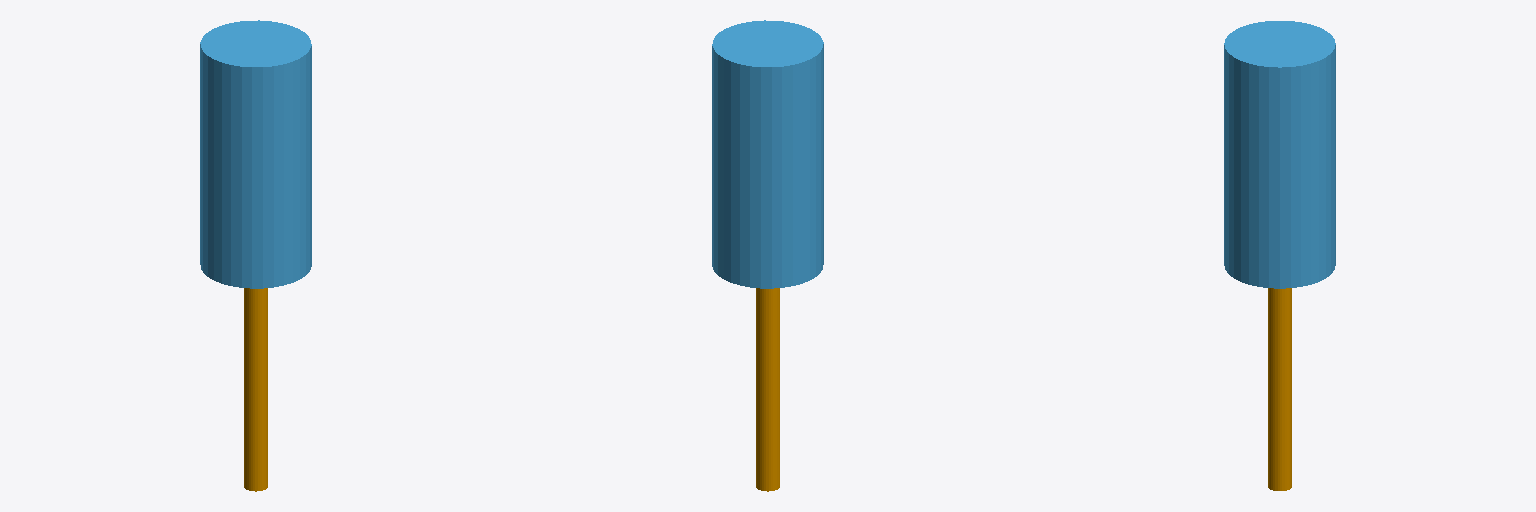
robot.urdf — screwdriver_on_the_table:
<?xml version="1.0" ?>
<!-- this is the one without any virtual joints and links -->
<robot name="screwdriver_on_the_table">
<link name="screwdriver_stick">
    <inertial>
      <mass value="0.05"/>
      <!-- <friction value="1.0"/> -->
      <inertia ixx="0.000041979" ixy="0.0" ixz="0.0" iyy="0.000041979" iyz="0.0" izz="0.000000625"/>
    </inertial>
    <visual>
        <origin rpy="0 0 0" xyz="0 0 0.05"/>
        <geometry>
            <cylinder radius="0.005" length="0.1"/>
        </geometry>
        <!-- <material name="White">
	 	    <color rgba="0.9 0.9 0.9 0.5"/>
        </material> -->
    </visual>
    <collision>
        <origin rpy="0 0 0" xyz="0 0 0.05"/>
        <geometry>
            <cylinder radius="0.005" length="0.1"/>
        </geometry>
    </collision>
</link>

<gazebo reference="screwdriver_body">
    <mu1>0.390462</mu1>
    <mu2>1.269627</mu2>
    <!-- Isaac Sim maps mu1/mu2 to PhysX static/dynamic friction during URDF→USD import -->
</gazebo>

<joint name="screwdriver_stick_body_joint" type="fixed">
    <parent link="screwdriver_stick"/>
    <child link="screwdriver_body"/>
    <origin rpy="0 0 0" xyz="0 0 0.1"/> 
    <axis xyz="0 0 1"/>
</joint>

<link name="screwdriver_body">
    <inertial>
      <mass value="0.181173"/>
      <inertia ixx="0.000174604" ixy="0.0" ixz="0.0" iyy="0.000174604" iyz="0.0" izz="0.000047254"/>
    </inertial>
    <visual>
        <origin rpy="0 0 0" xyz="0 0 0.05"/>
        <geometry>
            <cylinder radius="0.022840" length="0.1"/>
        </geometry>
        <!-- <material name="Red1">
	 	    <color rgba="0.9 0. 0. 0.5"/>
        </material> -->
    </visual>
    <collision>
        <origin rpy="0 0 0" xyz="0 0 0.05"/>
        <geometry>
            <cylinder radius="0.022840" length="0.1"/>
        </geometry>
    </collision>
</link>

<!-- <joint name="screwdriver_body_cap_joint" type="revolute">
    <parent link="screwdriver_body"/>
    <child link="screwdriver_cap"/>
    <origin rpy="0 0 0" xyz="0 0 0.1"/> 
    <axis xyz="0 0 1"/>
</joint>

<link name="screwdriver_cap">
    <inertial>
      <mass value="0.005"/>
      <inertia ixx="0.00001" ixy="0.0" ixz="0.0" iyy="0.000005" iyz="0.0" izz="0.000005"/>
    </inertial>
    <visual>
        <origin rpy="0 0 0" xyz="0 0 0.0006"/>
        <geometry>
            <cylinder radius="0.02" length="0.001"/>
        </geometry>
        <material name="Yellow">
	 	    <color rgba="0.9 0.9 0. 1.0"/>
        </material>
    </visual>
    <collision>
        <origin rpy="0 0 0" xyz="0 0 0.0005"/>
        <geometry>
            <cylinder radius="0.02" length="0.001"/>
        </geometry>
    </collision>
</link> -->

</robot>

--- Render facts (derived) ---
The picture shows the robot from 3 angles, left to right: view 1: azimuth 30°, elevation 25°; view 2: azimuth 150°, elevation 25°; view 3: azimuth 270°, elevation 25°; orthographic projection.
Model screwdriver_on_the_table with 2 links and 1 joints (1 fixed), rooted at screwdriver_stick, posed every joint at zero.
Links seen in each view (by area): view 1: screwdriver_body, screwdriver_stick; view 2: screwdriver_body, screwdriver_stick; view 3: screwdriver_body, screwdriver_stick.
Link boxes in pixels (x1=…): screwdriver_body: x1=200, y1=20, x2=311, y2=288; screwdriver_stick: x1=244, y1=288, x2=267, y2=491; screwdriver_body: x1=712, y1=20, x2=823, y2=288; screwdriver_stick: x1=756, y1=288, x2=779, y2=491; screwdriver_body: x1=1224, y1=21, x2=1335, y2=288; screwdriver_stick: x1=1268, y1=288, x2=1291, y2=490.
Size in the robot's own frame: 0.0457 by 0.0457 by 0.2 metres.
Geometry: primitives only (box / cylinder / sphere), no mesh files.
